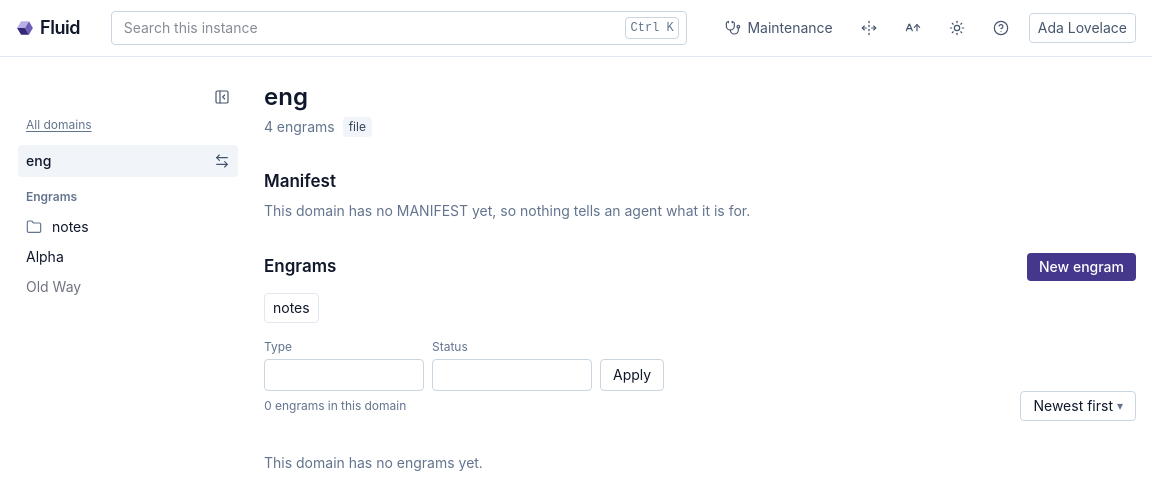
Test: the sidebar inside a domain › badges a private domain in the switcher
Step 1. Click the button named "Switch domain" → (222, 161), box [206,145,238,177]
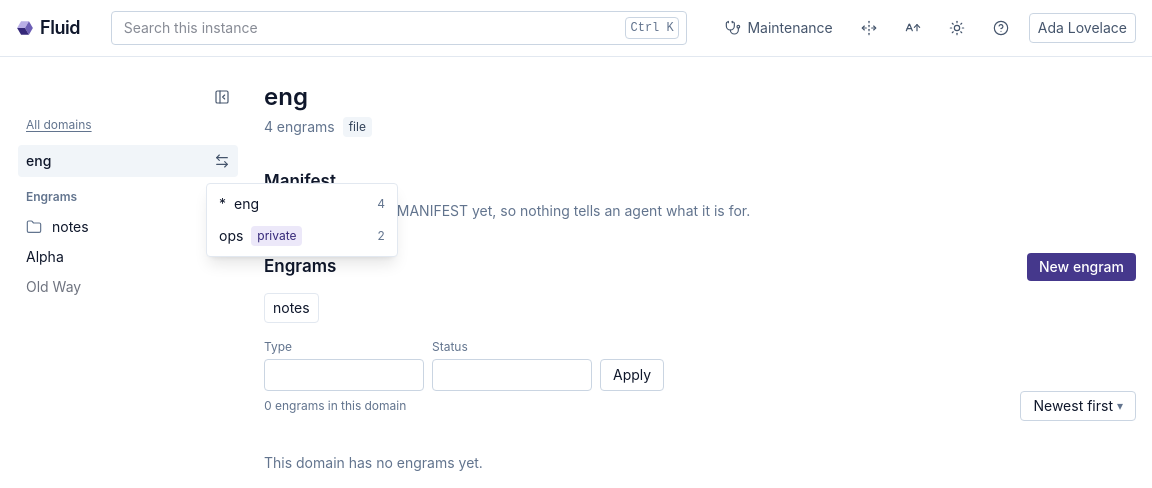
Expected: the menu item "* eng 4" does not show "private", [219,195,385,212]
Expected: the menu item "ops private 2" is shown, [211,220,393,252]
